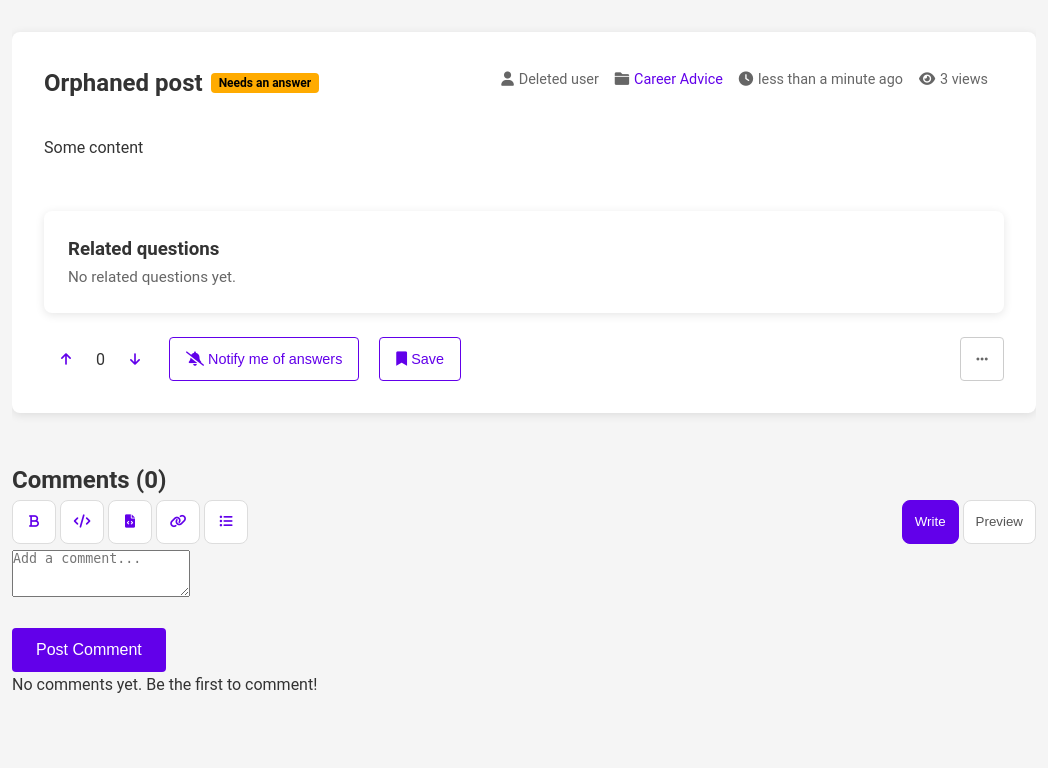
Test case: PostDetail notify-me subscription toggle › shows "Notify me of answers" when not subscribed, and subscribes on click
Click the button "Notify me of answers": (264, 359) [169, 337, 359, 381]
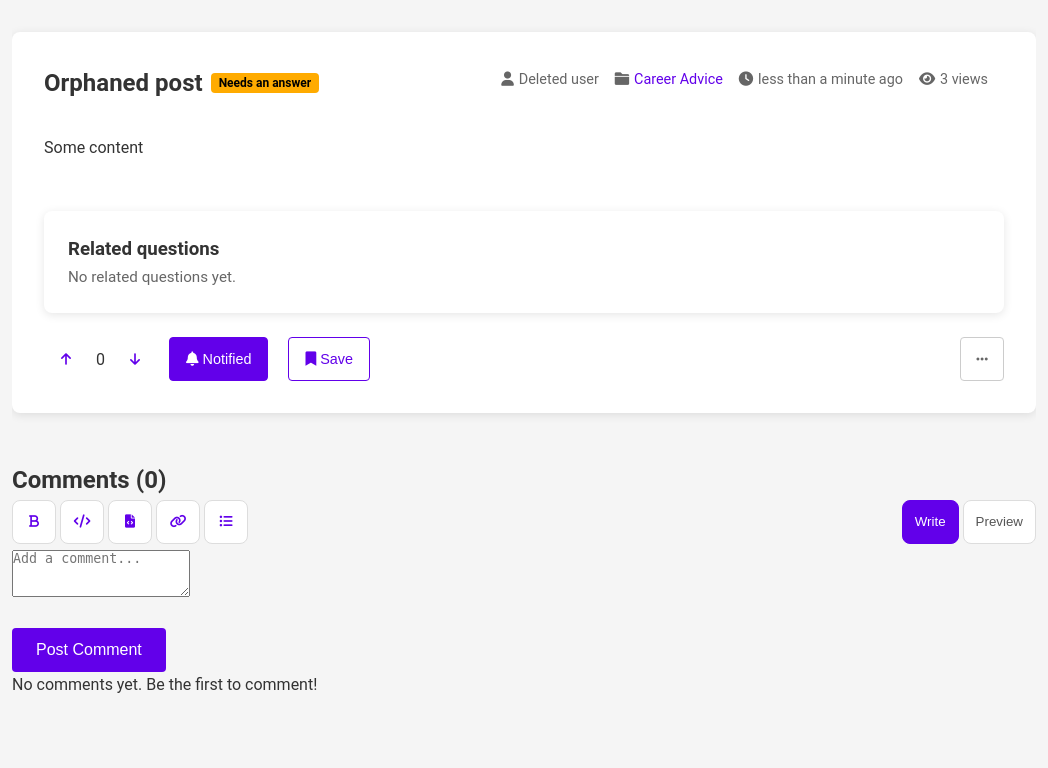
Expected: the button "Notified" is shown, [169, 337, 268, 381]
